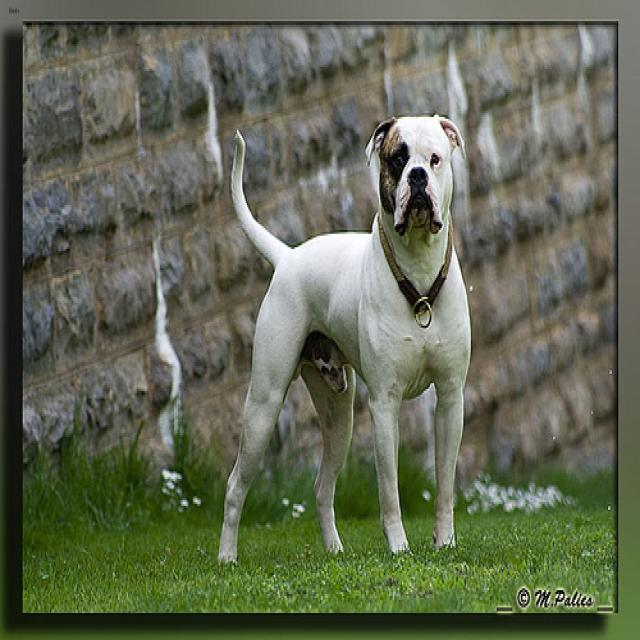dog: (362, 110, 463, 243)
